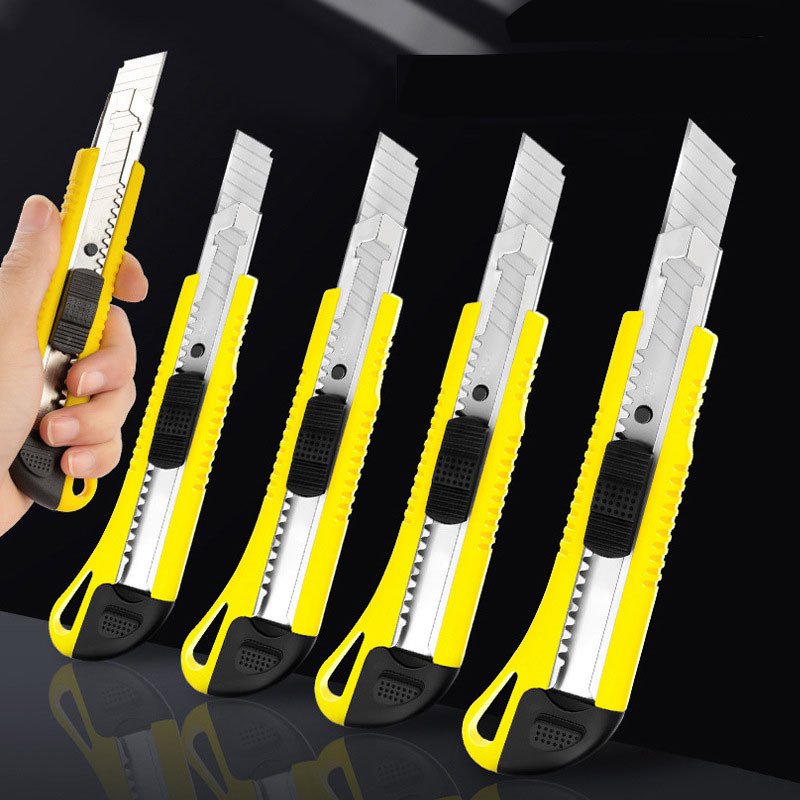cutter: (461, 115, 736, 773), (312, 130, 565, 728), (178, 130, 420, 696), (47, 126, 274, 658), (11, 50, 168, 512)
